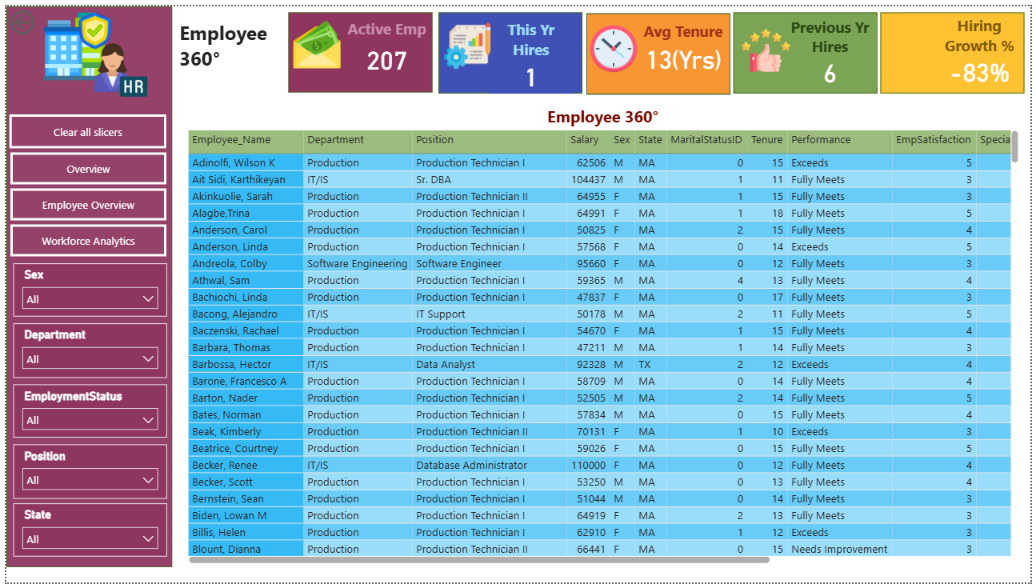

Layout of this report page (visuals, bound fields, positions):
{"tool":"powerbi","page":{"name":"Employee 360°","canvas":[1280,720],"ordinal":4},"visuals":[{"type":"shape","box":[0,0,207.4,700.9],"z":0},{"type":"image","box":[40,1,97.5,97.5],"z":0,"group":"g6"},{"type":"shape","box":[908.3,6.9,180,101.3],"z":0,"group":"g4"},{"type":"shape","box":[540,7,180,101.3],"z":0,"group":"g2"},{"type":"shape","box":[1093.1,7,180,101.3],"z":0,"group":"g5"},{"type":"shape","box":[352.8,7.2,180,100.1],"z":0,"group":"g1"},{"type":"shape","box":[724.8,8.6,180,101.3],"z":0,"group":"g3"},{"type":"card","title":"Hiring Growth %","fields":{"Values":["All Measures.Hiring Growth %"]},"box":[1163,10.8,107.5,88.8],"z":1000,"group":"g5"},{"type":"card","title":"Previous Yr Hires ","fields":{"Values":["All Measures.Previous Year hires LY"]},"box":[969.1,12.1,118.8,88.8],"z":1000,"group":"g4"},{"type":"card","title":"Active Emp","fields":{"Values":["All Measures.Total Active Employees"]},"box":[421.9,14.3,108.5,76.3],"z":1000,"group":"g1"},{"type":"card","title":"This Yr Hires ","fields":{"Values":["All Measures.New Hires TY"]},"box":[602.1,15.8,106.2,92.5],"z":1000,"group":"g2"},{"type":"card","title":"Avg Tenure","fields":{"Values":["All Measures.Avg tenure"]},"box":[788,16.9,114.4,69.1],"z":1000,"group":"g3"},{"type":"image","box":[103.8,36,78.8,86.2],"z":1000,"group":"g6"},{"type":"slicer","fields":{"Values":["HR_Employees_Data.EmploymentStatus"]},"box":[8.3,472,191.9,66.8],"z":1000},{"type":"image","box":[354.2,5.8,69.1,83.4],"z":2000,"group":"g1"},{"type":"image","box":[913.9,8.2,71.5,91.8],"z":2000,"group":"g4"},{"type":"image","box":[536.4,11.8,79.9,73.9],"z":2000,"group":"g2"},{"type":"image","box":[725.1,12.6,67.9,81.1],"z":2000,"group":"g3"},{"type":"slicer","fields":{"Values":["HR_Employees_Data.Sex"]},"box":[8.3,320.7,191.9,66.8],"z":2000},{"type":"slicer","fields":{"Values":["HR_Employees_Data.Department"]},"box":[8.3,395.8,191.9,67.9],"z":3000},{"type":"slicer","fields":{"Values":["HR_Employees_Data.Position"]},"box":[8.3,547.1,191.9,67.9],"z":4000},{"type":"slicer","fields":{"Values":["HR_Employees_Data.State"]},"box":[8.3,621,191.9,66.8],"z":5000},{"type":"actionButton","box":[5,182.5,195,40],"z":6000},{"type":"actionButton","box":[5,227.5,195,40],"z":7000},{"type":"actionButton","box":[5,272.5,195,40],"z":8000},{"type":"textbox","box":[211.2,11.2,136.2,96.2],"z":9000},{"type":"group","id":"g1","title":"Group 1","box":[352.8,5.8,180,101.5],"z":10000},{"type":"group","id":"g2","title":"Group 1","box":[536.4,7,183.6,101.3],"z":11000},{"type":"group","id":"g3","title":"Group 1","box":[724.8,8.6,180,101.3],"z":12000},{"type":"group","id":"g4","title":"Group 1","box":[908.3,6.9,180,101.3],"z":13000},{"type":"group","id":"g5","title":"Group 1","box":[1093.1,7,180,101.3],"z":14000},{"type":"tableEx","title":"Employee 360°","fields":{"Values":["HR_Employees_Data.Employee_Name","HR_Employees_Data.Department","HR_Employees_Data.Position","HR_Employees_Data.Salary","HR_Employees_Data.Sex","HR_Employees_Data.State","HR_Employees_Data.MaritalStatusID","HR_Employees_Data.Tenure","HR_Employees_Data.Performance","HR_Employees_Data.EmpSatisfaction","HR_Employees_Data.SpecialProjectsCount","HR_Employees_Data.RecruitmentSource"]},"box":[221.2,123.8,1048.8,577.5],"z":15000},{"type":"actionButton","box":[0,0,100,40],"z":16000},{"type":"group","id":"g6","title":"Group 2","box":[3.8,1,196.2,176.2],"z":17000},{"type":"actionButton","box":[3.8,134.7,196.2,42.5],"z":17002,"group":"g6"}]}

Visuals, with their boxes in screenshot pixels (x1, y1, x2, y2), scaled from the page's 1280x720 canvas onto the 1036x587 screenshot:
shape: [0,0,168,571]
image: [32,1,111,80]
shape: [735,6,881,88]
shape: [437,6,583,88]
shape: [885,6,1030,88]
shape: [286,6,431,87]
shape: [587,7,732,90]
"Hiring Growth %" card: [941,9,1028,81]
"Previous Yr Hires " card: [784,10,881,82]
"Active Emp" card: [341,12,429,74]
"This Yr Hires " card: [487,13,573,88]
"Avg Tenure" card: [638,14,730,70]
image: [84,29,148,100]
slicer - HR_Employees_Data.EmploymentStatus: [7,385,162,439]
image: [287,5,343,73]
image: [740,7,798,82]
image: [434,10,499,70]
image: [587,10,642,76]
slicer - HR_Employees_Data.Sex: [7,261,162,316]
slicer - HR_Employees_Data.Department: [7,323,162,378]
slicer - HR_Employees_Data.Position: [7,446,162,501]
slicer - HR_Employees_Data.State: [7,506,162,561]
actionButton: [4,149,162,181]
actionButton: [4,185,162,218]
actionButton: [4,222,162,255]
textbox: [171,9,281,88]
"Group 1" group: [286,5,431,87]
"Group 1" group: [434,6,583,88]
"Group 1" group: [587,7,732,90]
"Group 1" group: [735,6,881,88]
"Group 1" group: [885,6,1030,88]
"Employee 360°" tableEx: [179,101,1028,572]
actionButton: [0,0,81,33]
"Group 2" group: [3,1,162,144]
actionButton: [3,110,162,144]
